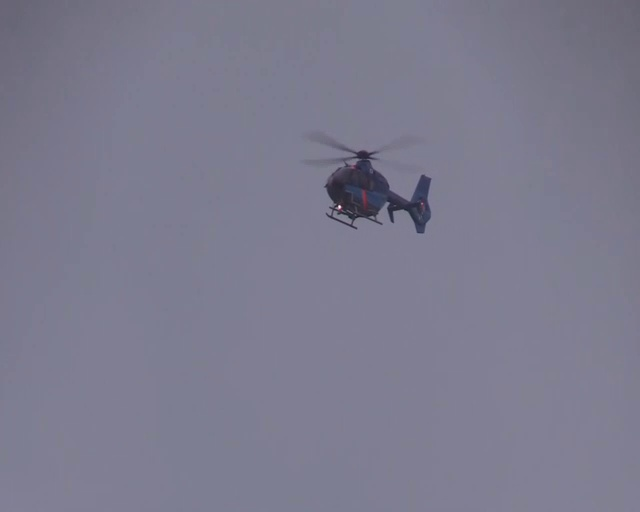HELICOPTER: (300, 127, 433, 232)
